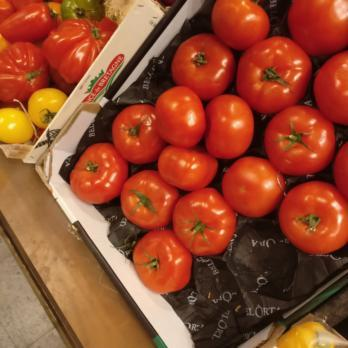Tomato: (203, 0, 348, 249), (116, 103, 205, 277)
